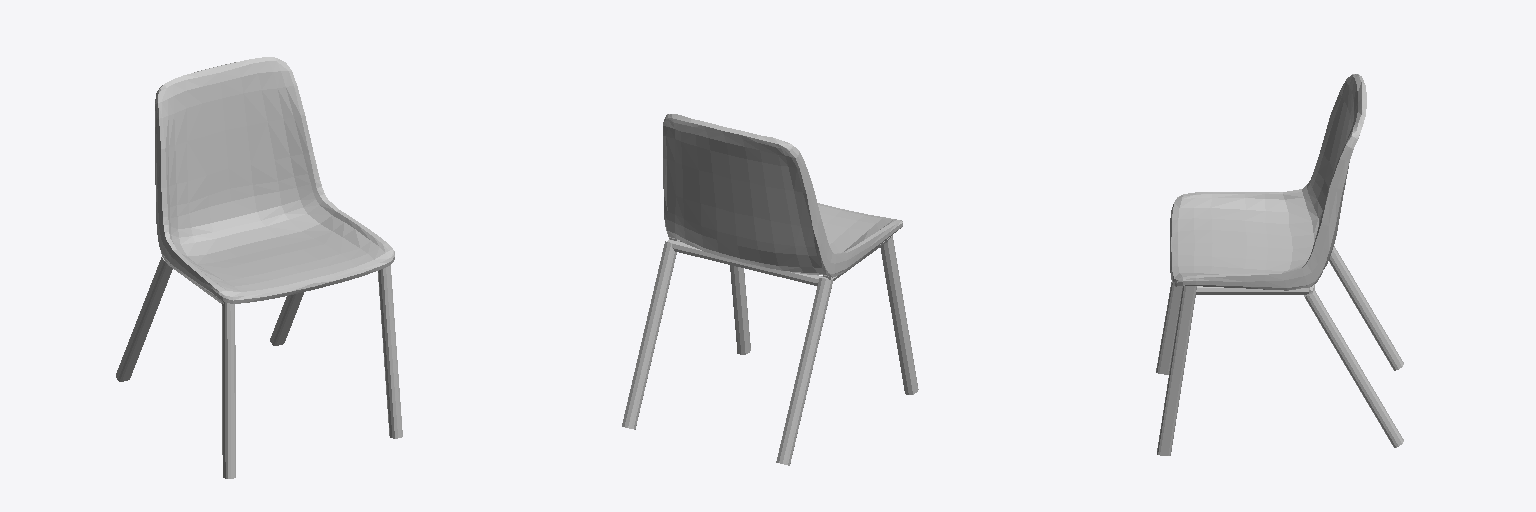
Rendered from Chair_3.obj.
3 views of the same model, side by side, from view 1: azimuth 30°, elevation 25°; view 2: azimuth 150°, elevation 25°; view 3: azimuth 270°, elevation 25° (orthographic).
Visible parts, largest first — view 1: Chair_3 polySurface33, Chair_3 pCube4, Chair_3 pCube5, Chair_3 pCube3, Chair_3 pCube2; view 2: Chair_3 polySurface33, Chair_3 pCube3, Chair_3 pCube2, Chair_3 pCube4, Chair_3 pCube5, Chair_3 pCylinder1; view 3: Chair_3 polySurface33, Chair_3 pCube5, Chair_3 pCube2, Chair_3 pCube3, Chair_3 pCube4, pCylinder4 Chair_3.
Boxes of the visible parts, x1=… form: Chair_3 polySurface33: x1=155, y1=57, x2=394, y2=303; Chair_3 pCube4: x1=222, y1=301, x2=235, y2=478; Chair_3 pCube5: x1=378, y1=265, x2=402, y2=438; Chair_3 pCube3: x1=116, y1=257, x2=172, y2=381; Chair_3 pCube2: x1=270, y1=292, x2=303, y2=345; Chair_3 polySurface33: x1=663, y1=114, x2=902, y2=277; Chair_3 pCube3: x1=776, y1=278, x2=832, y2=465; Chair_3 pCube2: x1=622, y1=241, x2=676, y2=429; Chair_3 pCube4: x1=880, y1=235, x2=918, y2=394; Chair_3 pCube5: x1=730, y1=265, x2=750, y2=354; Chair_3 pCylinder1: x1=667, y1=239, x2=827, y2=285; Chair_3 polySurface33: x1=1170, y1=74, x2=1366, y2=290; Chair_3 pCube5: x1=1157, y1=286, x2=1196, y2=455; Chair_3 pCube2: x1=1304, y1=288, x2=1403, y2=447; Chair_3 pCube3: x1=1329, y1=246, x2=1403, y2=370; Chair_3 pCube4: x1=1156, y1=282, x2=1182, y2=374; pCylinder4 Chair_3: x1=1196, y1=286, x2=1308, y2=294.
Size of the model in its own units: 18.62 by 31.19 by 22.06.